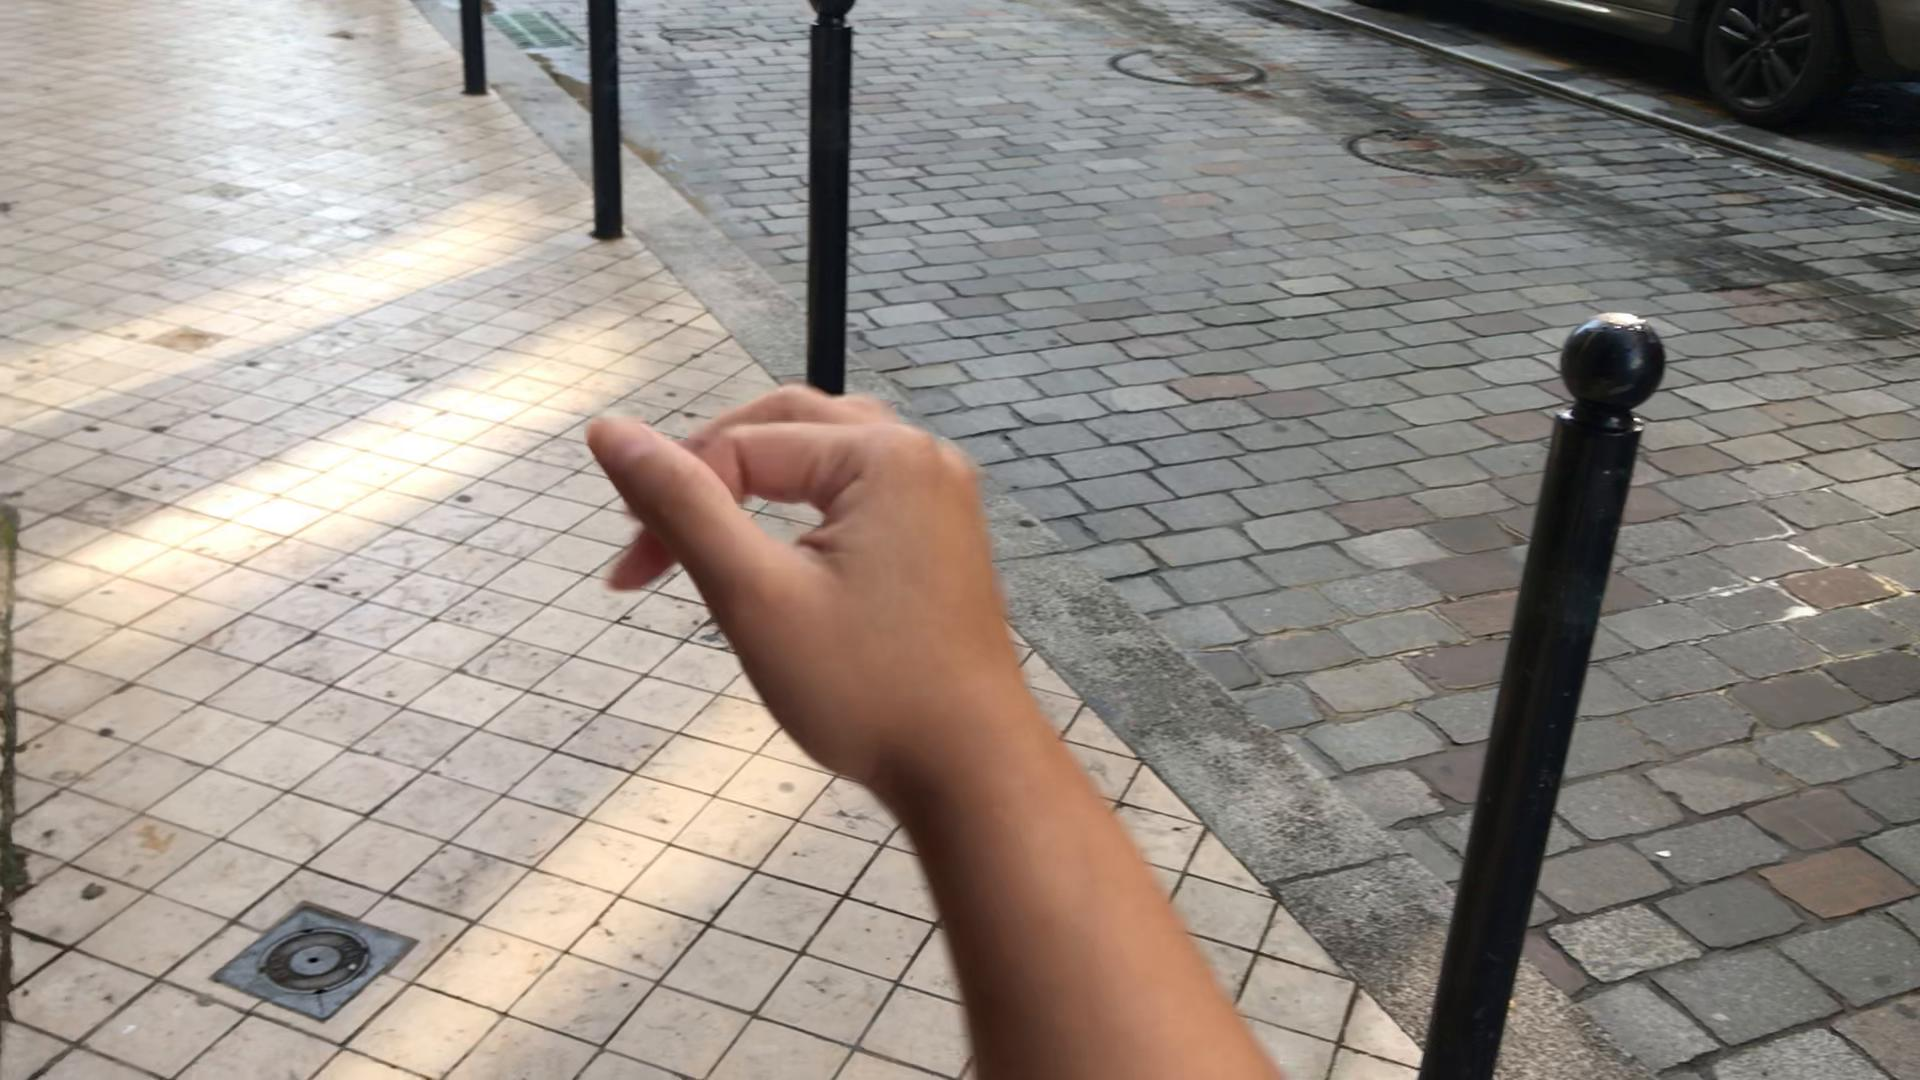hand: (574, 378, 1015, 777)
